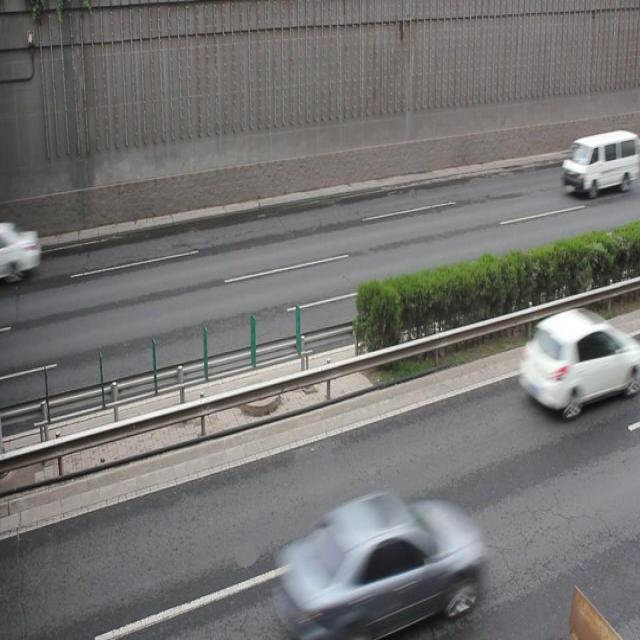car: (272, 486, 481, 640), (515, 308, 630, 416)
truck: (560, 129, 640, 196)
